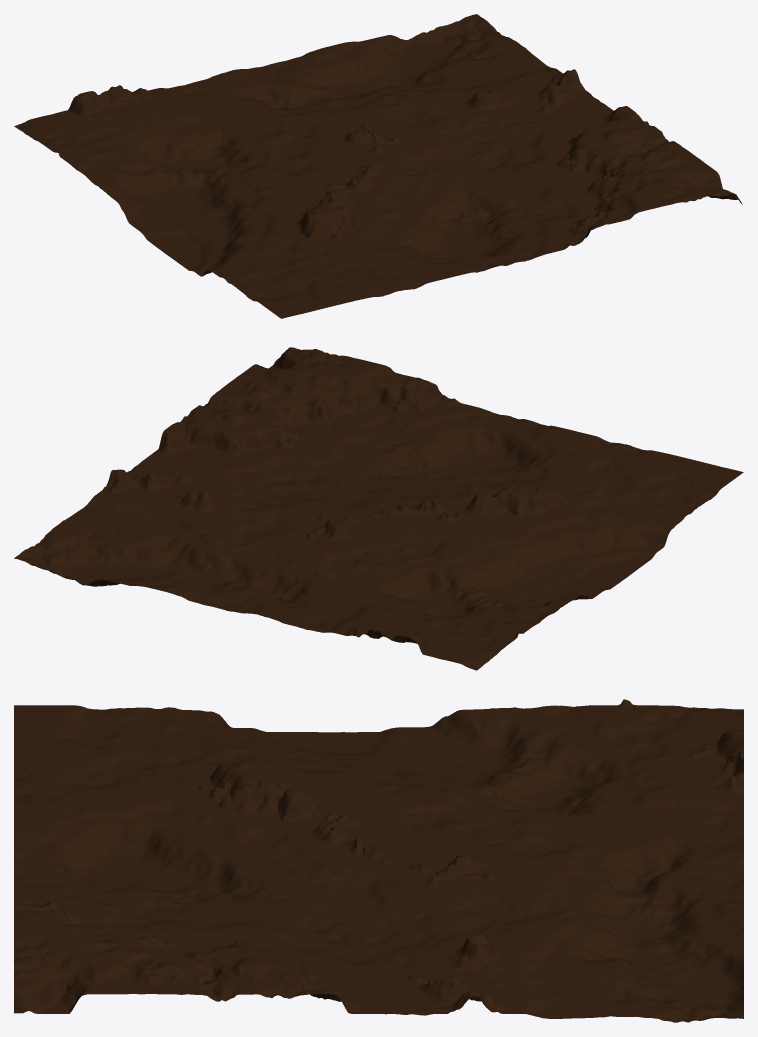
Rendered from 2x2.3_Squares_200m_001.glb.
3 views of the same model, one above another, from view 1: azimuth 30°, elevation 25°; view 2: azimuth 150°, elevation 25°; view 3: azimuth 270°, elevation 25° (orthographic). The views are drawn at different scales.
Parts seen in each view (by area): view 1: Cube; view 2: Cube; view 3: Cube.
Part boxes in pixels (bbox=[...]): Cube: bbox=[14, 14, 742, 318]; Cube: bbox=[14, 347, 743, 670]; Cube: bbox=[14, 699, 743, 1022].
Size of the model in its own units: 500 by 40.35 by 500.
